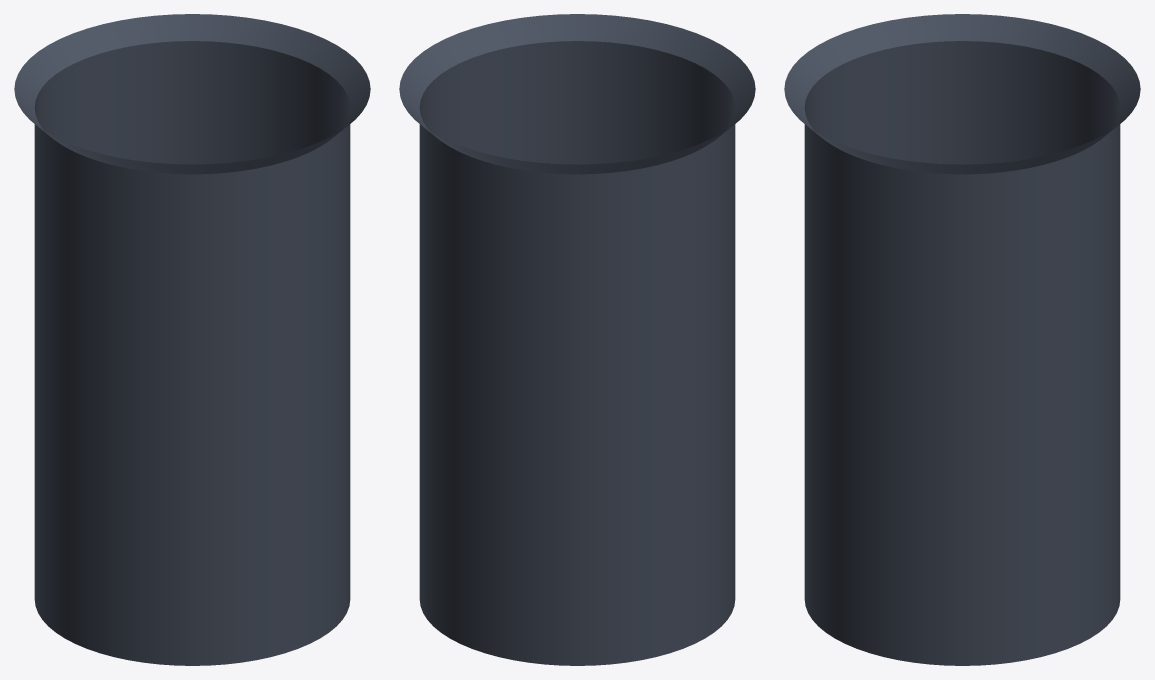
Rendered from hole_001.fbx.
The picture shows the model from 3 angles, left to right: view 1: azimuth 30°, elevation 25°; view 2: azimuth 150°, elevation 25°; view 3: azimuth 270°, elevation 25°; orthographic projection.
Visible parts, largest first — view 1: hole_001; view 2: hole_001; view 3: hole_001.
Part boxes in pixels (x1,y1,x2,y2): hole_001: [14, 14, 370, 665]; hole_001: [399, 14, 755, 665]; hole_001: [784, 14, 1140, 665].
Bounding box in the file's own units: 903 × 1426 × 903.
